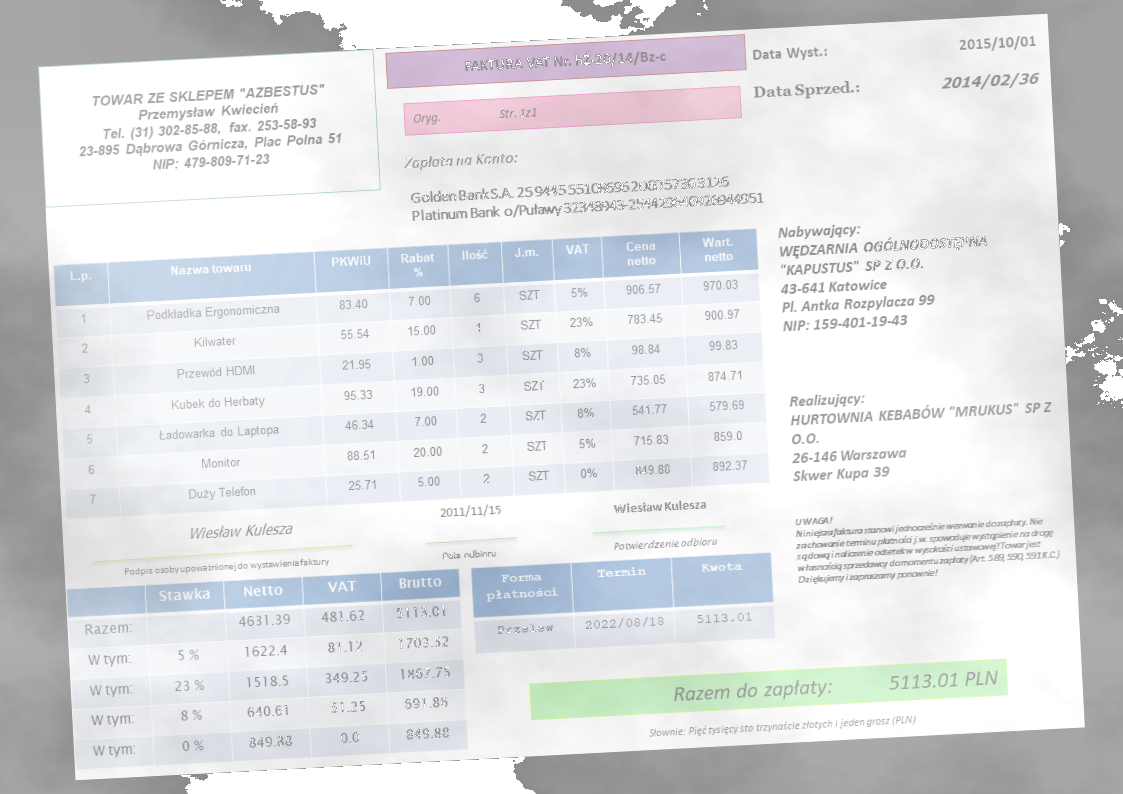Table: (52, 225, 769, 519), (66, 567, 469, 770), (469, 551, 777, 655)
TextBox: (787, 378, 1057, 485), (73, 80, 347, 178), (776, 214, 996, 336), (792, 502, 1064, 587), (409, 171, 767, 225), (670, 665, 1001, 705), (647, 712, 918, 741), (463, 44, 669, 77), (122, 553, 331, 579), (401, 148, 520, 174), (752, 78, 864, 104), (186, 518, 296, 544), (410, 104, 539, 126), (940, 69, 1042, 95), (611, 534, 719, 554), (611, 495, 709, 517), (957, 32, 1038, 54), (751, 43, 830, 64), (437, 501, 503, 522), (439, 546, 497, 562)
